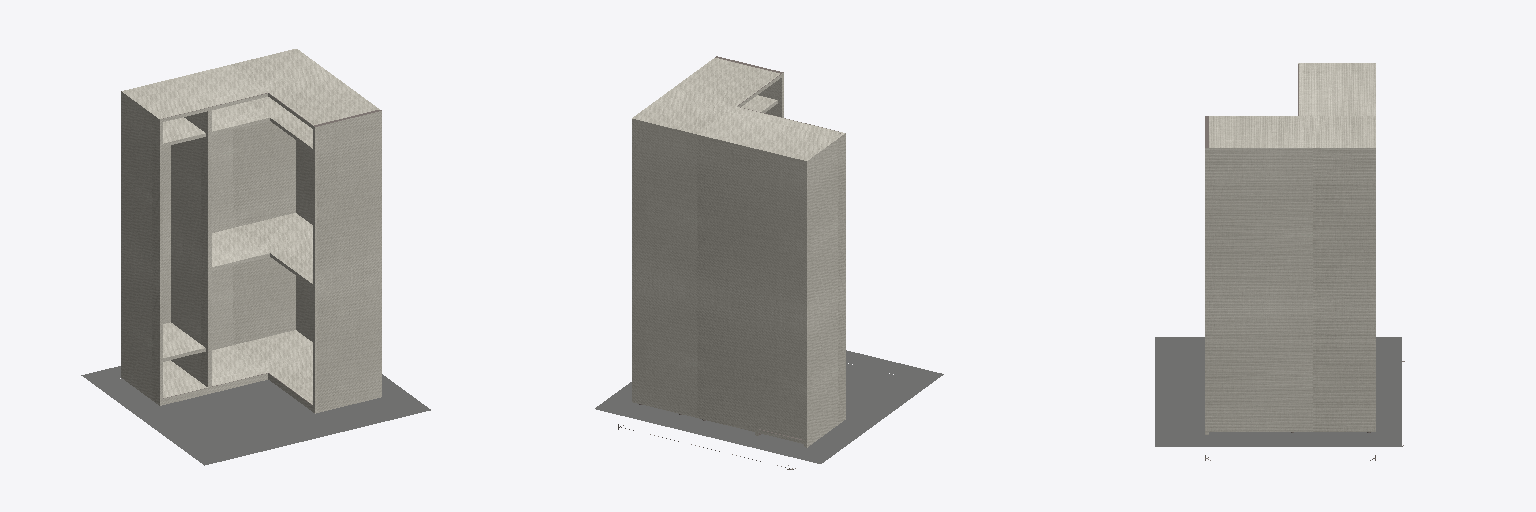
3 views of the same model, side by side, from view 1: azimuth 30°, elevation 25°; view 2: azimuth 150°, elevation 25°; view 3: azimuth 270°, elevation 25° (orthographic).
Parts seen in each view (by area): view 1: Mesh2 Model, Mesh3 Model; view 2: Mesh2 Model, Mesh3 Model; view 3: Mesh2 Model, Mesh3 Model.
Part boxes in pixels (bbox=[...]): Mesh2 Model: bbox=[117, 49, 394, 450]; Mesh3 Model: bbox=[81, 366, 430, 465]; Mesh2 Model: bbox=[630, 56, 908, 448]; Mesh3 Model: bbox=[595, 350, 943, 463]; Mesh2 Model: bbox=[1181, 63, 1375, 435]; Mesh3 Model: bbox=[1155, 337, 1401, 446].
Size of the model in its own units: 79.74 by 101 by 75.75.
Materials: 5 (1 with a texture image).